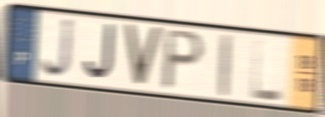I: (219, 31, 233, 100)
J: (39, 16, 75, 81), (82, 22, 116, 84)
L: (251, 36, 284, 104)
P: (159, 27, 207, 93)
V: (122, 22, 165, 91)
